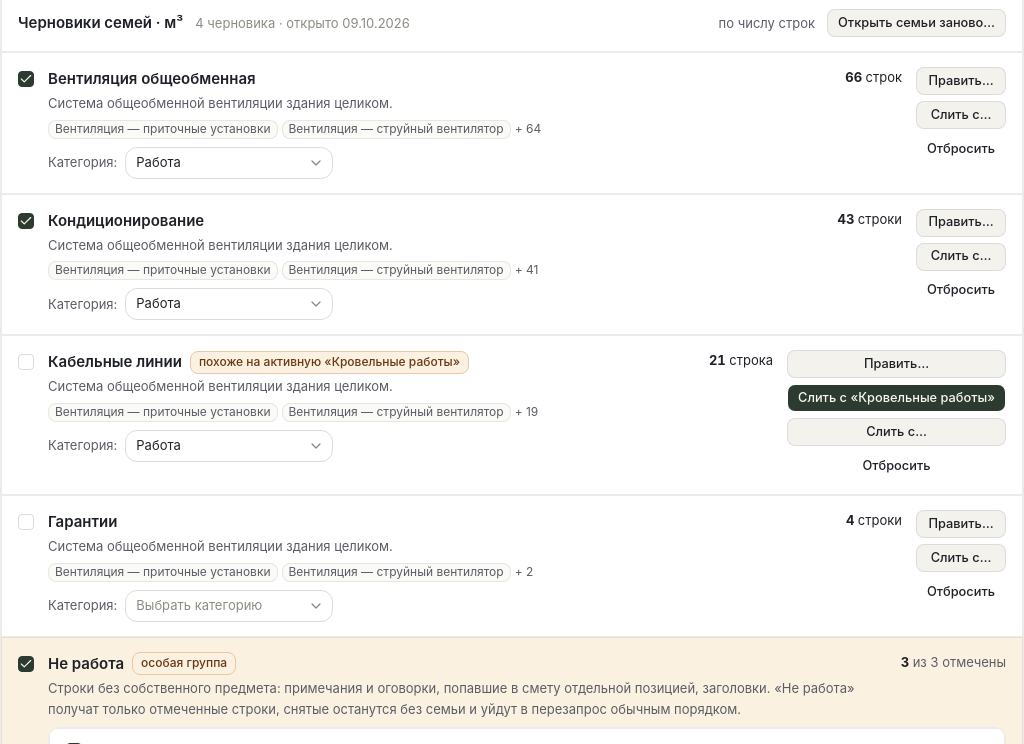
Scenario: DiscoveryDrafts — показ › отметка черновика меняет счётчик; «Не работа» и пары считаются отдельно
What coordinates should you click on to do the following:
click the checkbox named "Отметить черновик «Кабельные линии»"
I would click on:
 (26, 362)
Its box is [18,354,34,370].
(page scrolled)
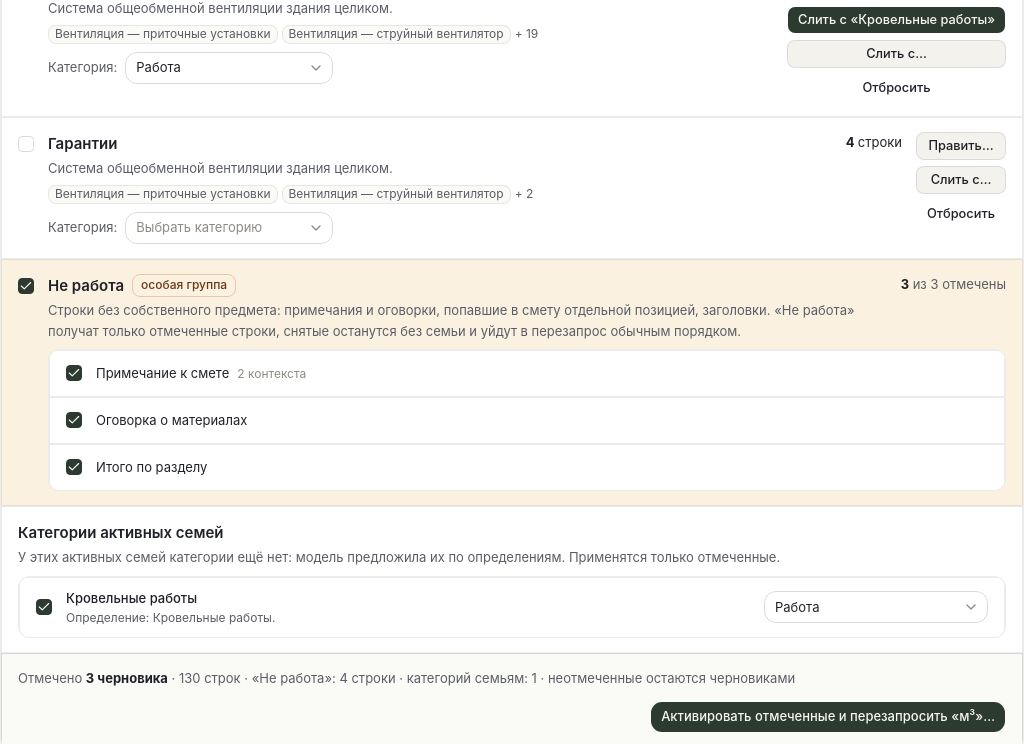
expect the element with test id "discovery-counter" shows "«Не работа»: 4 строки": met, box [18,668,795,689]
expect the element with test id "discovery-counter" shows "Отмечено 3 черновика · 130 строк": met, box [18,668,795,689]
